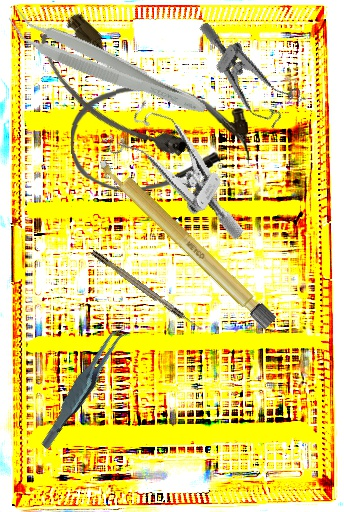Cannula: (27, 5, 198, 183), (69, 82, 250, 194)
Hook Surgical: (90, 248, 203, 333)
Scalpel Handle: (95, 153, 278, 330)
Speculum: (92, 91, 276, 242), (174, 20, 314, 136)
Tissue Forceps: (0, 4, 214, 123), (19, 323, 149, 451)
